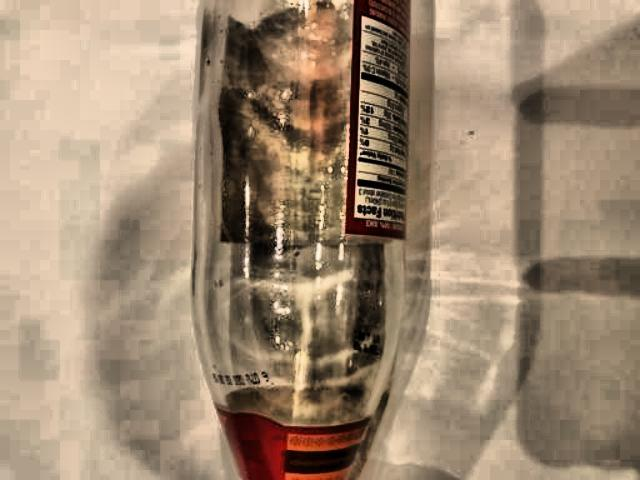Bottles: (171, 0, 439, 480)
